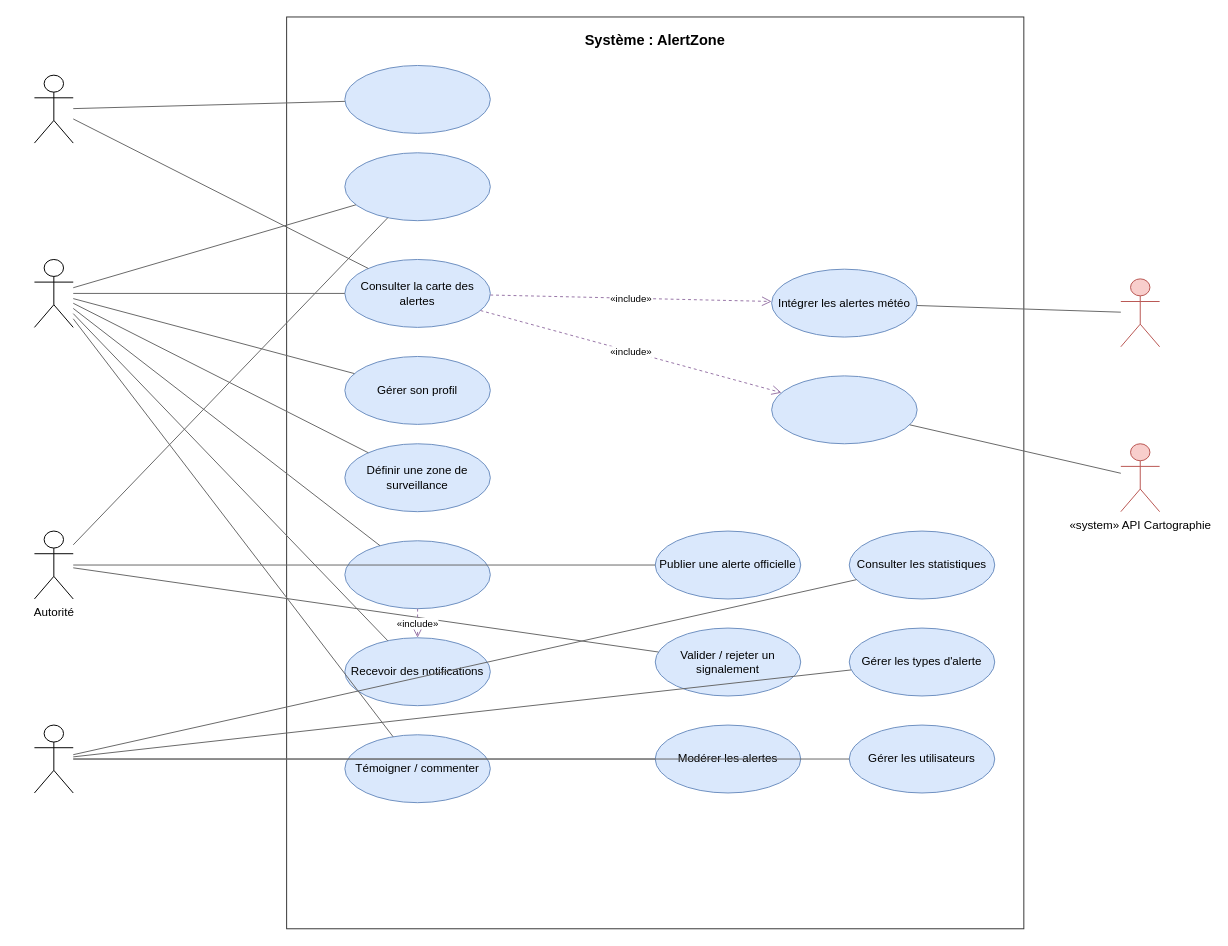
The diagram is 1228 pixels wide and 946 high, and some of its shapes have lost their labels. The centre of each missing label's shape, as x and y in pixels:
"Administrateur" goes at point 53,758.
"Afficher la cartographie" goes at point 844,409.
"Citoyen" goes at point 53,293.
"S'authentifier" goes at point 417,186.
"S'inscrire" goes at point 417,99.
"Signaler une alerte" goes at point 417,574.
"Visiteur" goes at point 53,108.
"«system» API Météo" goes at point 1140,312.
